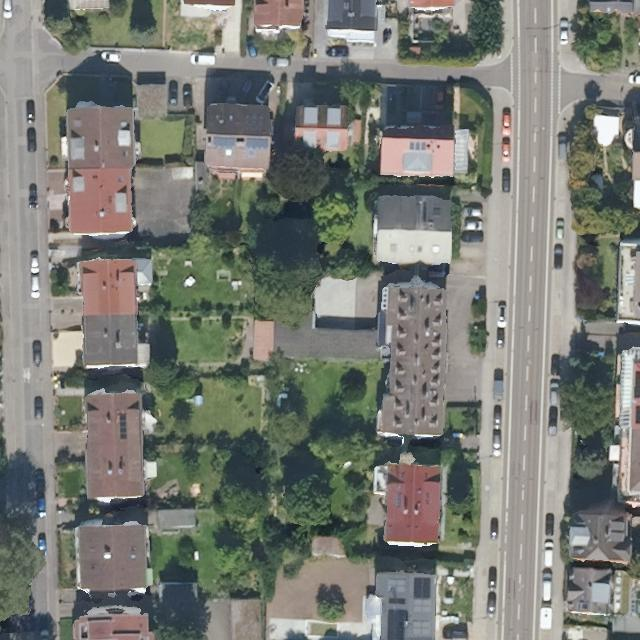PV: (386, 608, 412, 639), (411, 575, 433, 601), (387, 596, 407, 606)
